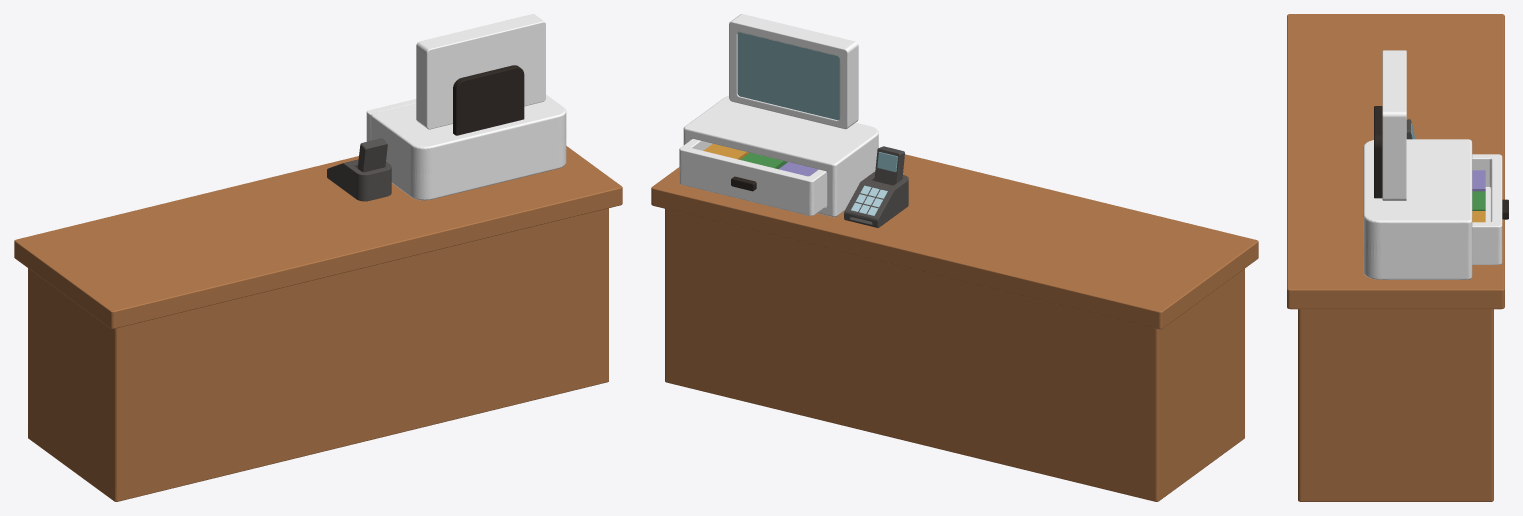
Rendered from cashdesk.fbx.
The picture shows the model from 3 angles, left to right: view 1: azimuth 30°, elevation 25°; view 2: azimuth 150°, elevation 25°; view 3: azimuth 270°, elevation 25°; orthographic projection. The views are drawn at different scales.
Parts seen in each view (by area): view 1: 개체_22, 개체_21, 개체_16, 개체_15, 개체_2, 개체_3; view 2: 개체_22, 개체_21, 개체_14, 개체_20, 개체_16, 개체_2, 개체_3; view 3: 개체_22, 개체_21, 개체_16, 개체_20, 개체_15, 개체_19, 개체_17.
Boxes of the visible parts, <box> form: 개체_22: <box>14,146,622,501</box>; 개체_21: <box>370,94,566,200</box>; 개체_16: <box>416,14,545,129</box>; 개체_15: <box>453,65,524,135</box>; 개체_2: <box>327,159,391,201</box>; 개체_3: <box>357,138,387,172</box>; 개체_22: <box>651,154,1258,501</box>; 개체_21: <box>683,96,878,217</box>; 개체_14: <box>737,32,839,120</box>; 개체_20: <box>679,139,827,215</box>; 개체_16: <box>729,14,858,129</box>; 개체_2: <box>844,172,908,227</box>; 개체_3: <box>874,146,904,185</box>; 개체_22: <box>1287,14,1504,501</box>; 개체_21: <box>1363,139,1472,279</box>; 개체_16: <box>1382,50,1406,200</box>; 개체_20: <box>1472,154,1502,264</box>; 개체_15: <box>1374,106,1382,198</box>; 개체_19: <box>1472,170,1485,191</box>; 개체_17: <box>1472,191,1485,210</box>.
Bounding box in the file's own units: 600 × 380 × 204.
